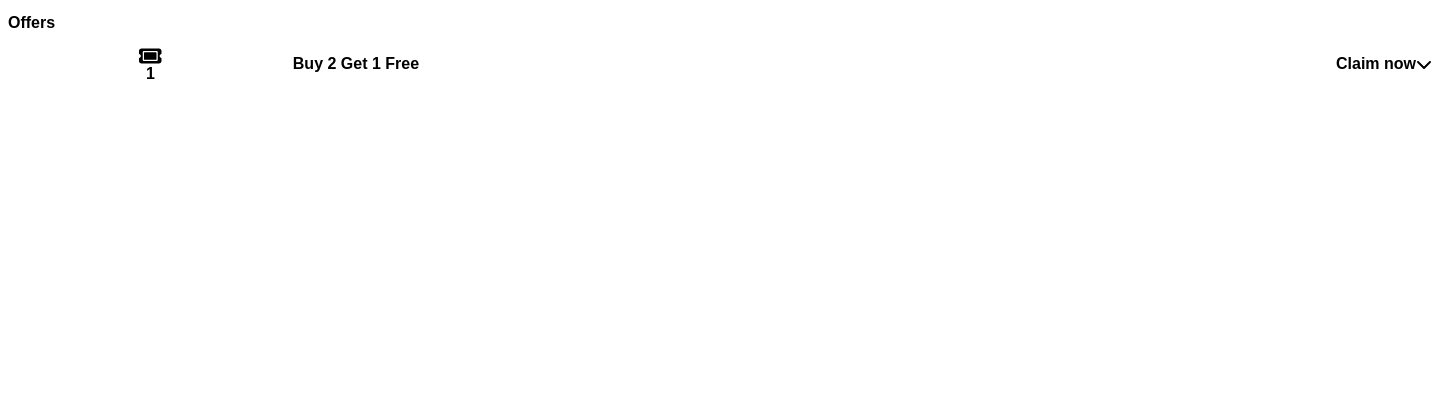
store page offers › says when a happy-hour deal is not running at this hour
Step 1. Click the button "1 Buy 2 Get 1 Free Claim now" → (356, 63), box 8,46 -> 1432,82
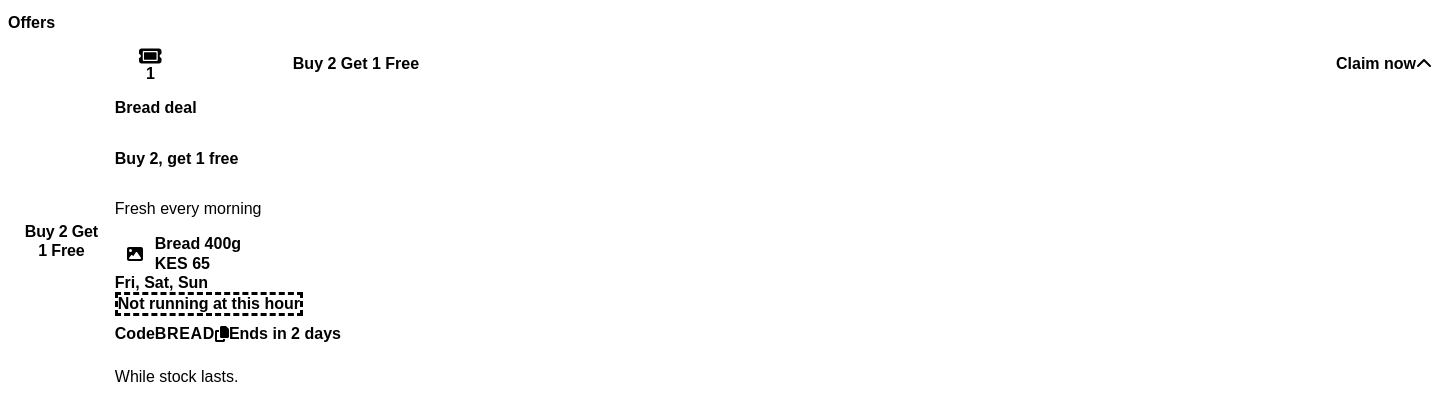
expect the list item "Not running at this hour" is shown: met, box 115,292 -> 303,316
